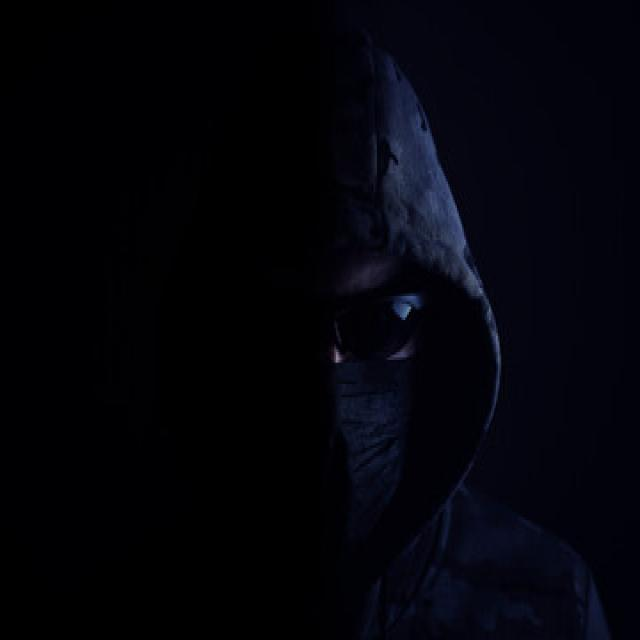person-with-mask: (177, 63, 525, 640)
